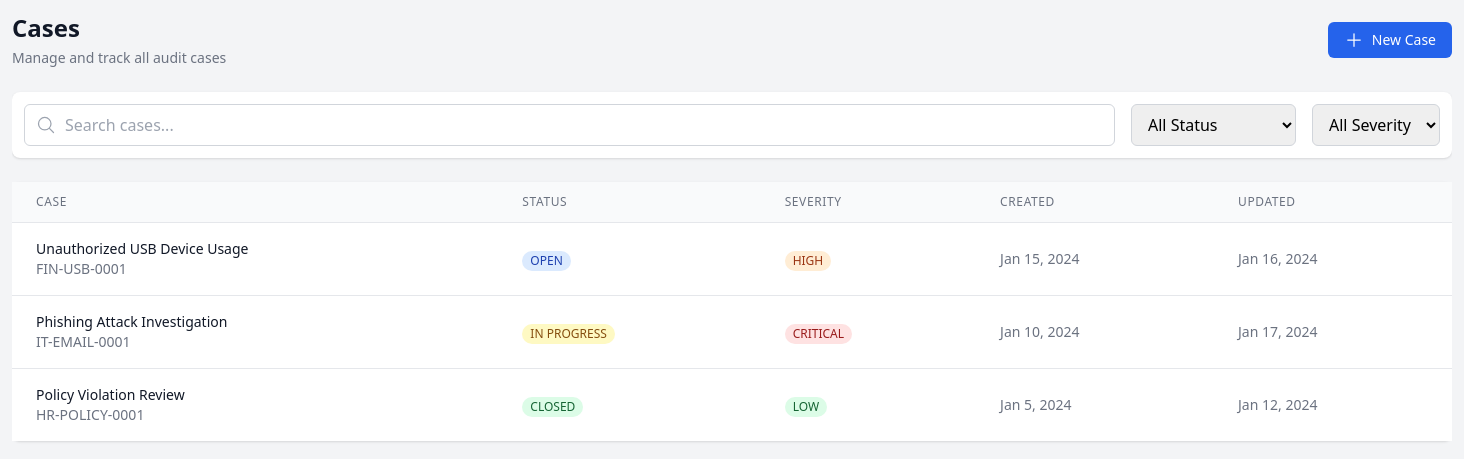
Test case: CaseList › search functionality › filters cases by case number
Check: the text "FIN-USB-0001" is shown, box [36,259,127,278]
Type "IT-EMAIL" into the field with placeholder "Search cases..." at (570, 125), box [24,104,1115,146]
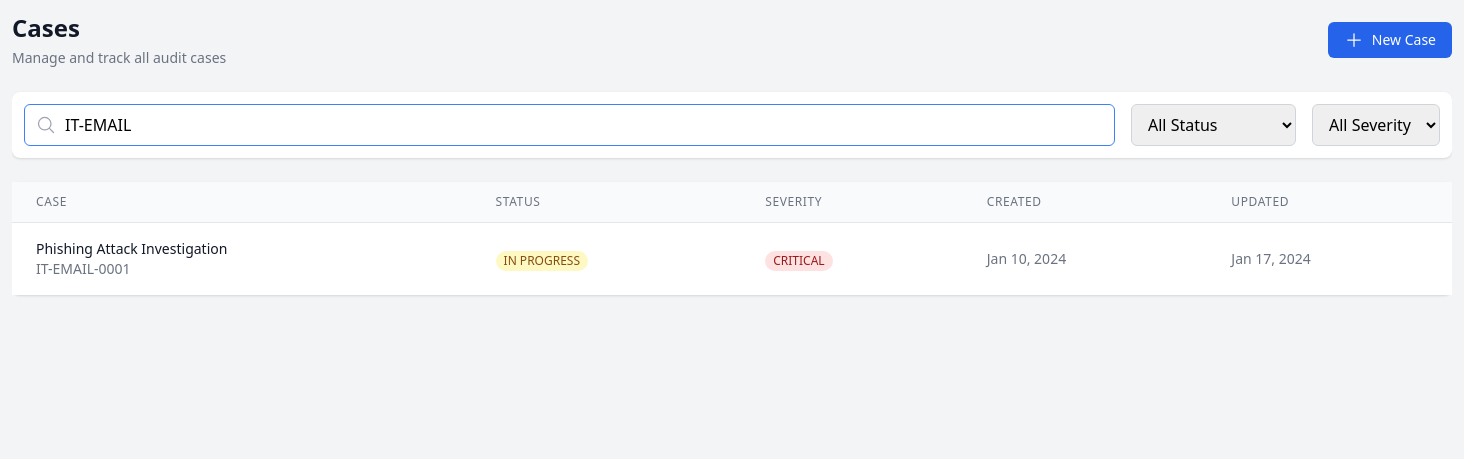
Check: the text "IT-EMAIL-0001" is shown, box [36,259,130,278]
Check: the text "FIN-USB-0001" is gone
